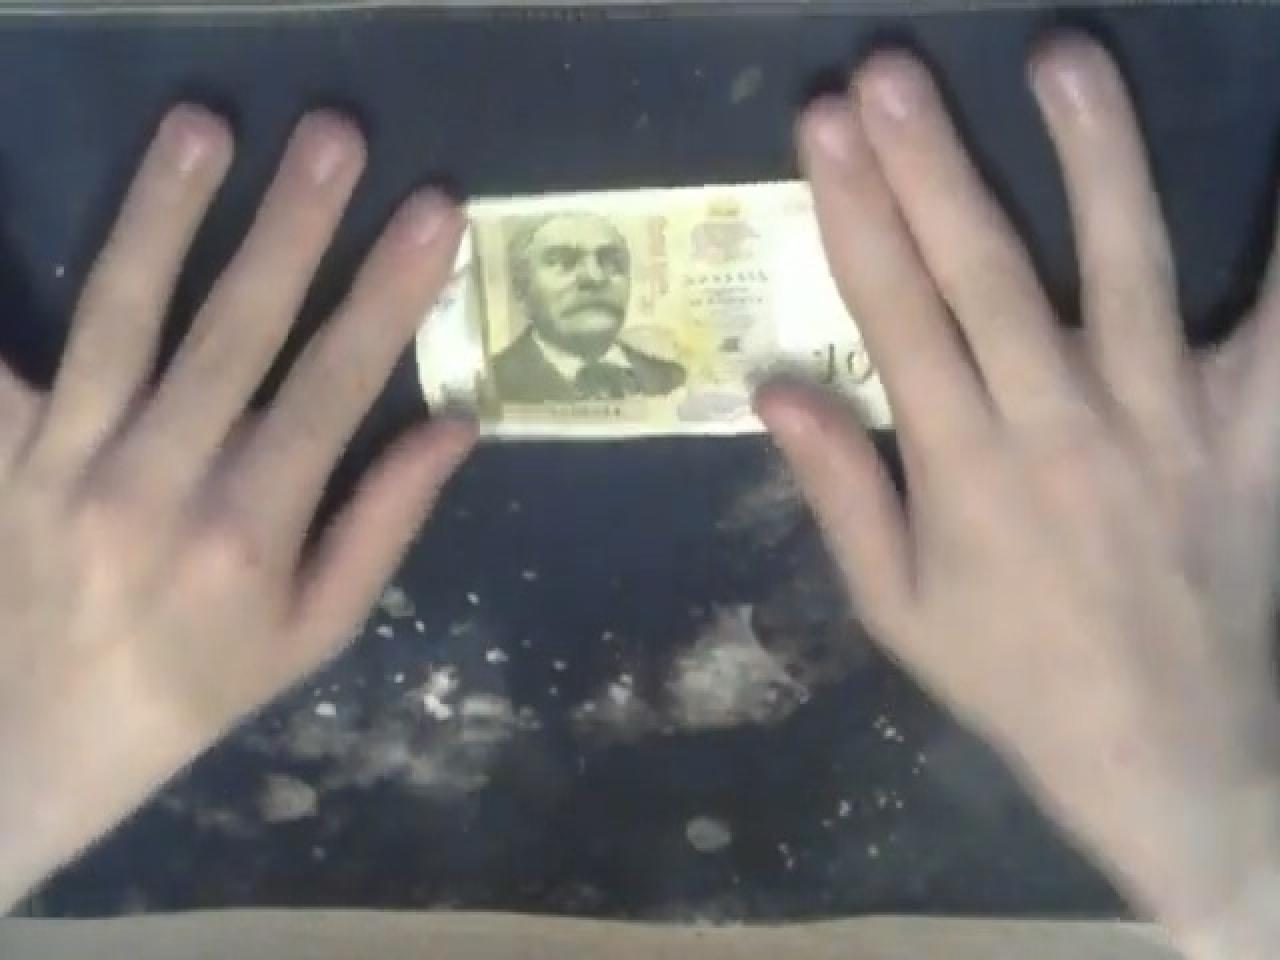10leva: (805, 334, 889, 398)
